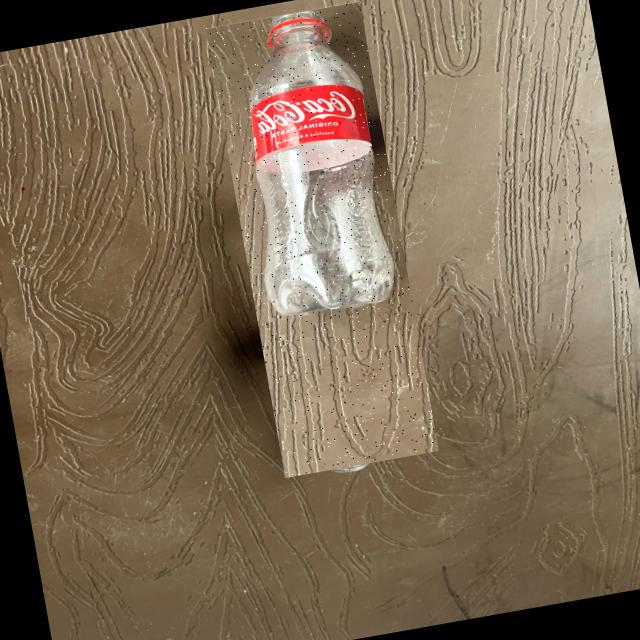REJECT: (205, 0, 438, 477)
